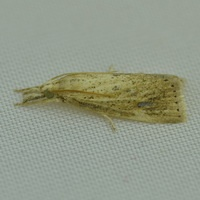insect: (15, 71, 186, 131)
